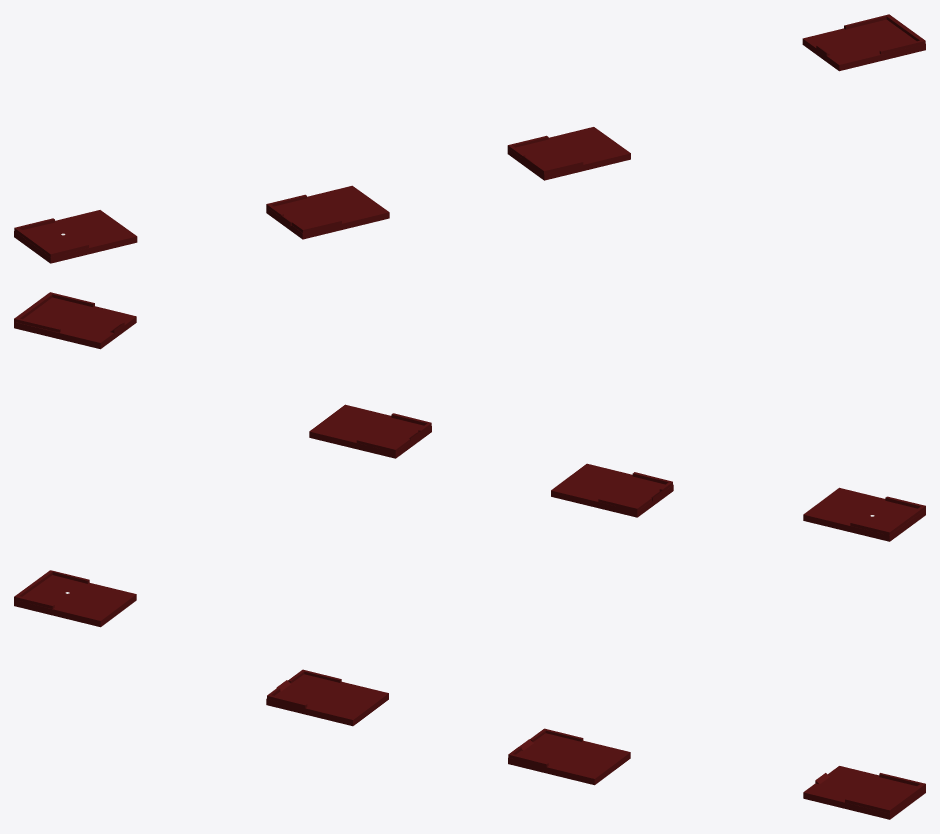
Rendered from Map#5.fbx.
The picture shows the model from 3 angles, top to bottom: view 1: azimuth 30°, elevation 25°; view 2: azimuth 150°, elevation 25°; view 3: azimuth 330°, elevation 25°; orthographic projection.
Visible parts, largest first — view 1: Mid_Point_1, Mid_Point_2, Ending_Pad, Starting_Pad, Starting_Point_Wall, End_Point_Wall; view 2: Mid_Point_1, Mid_Point_2, Ending_Pad, Starting_Pad, Starting_Point_Wall, End_Point_Wall; view 3: Ending_Pad, Mid_Point_2, Mid_Point_1, Starting_Pad, Starting_Point_Wall, End_Point_Wall.
Boxes of the visible parts, bbox=[...] form: Mid_Point_1: bbox=[507, 127, 630, 180]; Mid_Point_2: bbox=[266, 185, 389, 239]; Ending_Pad: bbox=[14, 210, 137, 263]; Starting_Pad: bbox=[802, 19, 925, 71]; Starting_Point_Wall: bbox=[844, 14, 925, 54]; End_Point_Wall: bbox=[14, 218, 88, 257]; Mid_Point_1: bbox=[309, 404, 431, 458]; Mid_Point_2: bbox=[551, 463, 673, 517]; Ending_Pad: bbox=[803, 487, 925, 541]; Starting_Pad: bbox=[14, 297, 136, 349]; Starting_Point_Wall: bbox=[14, 292, 94, 332]; End_Point_Wall: bbox=[850, 496, 925, 535]; Ending_Pad: bbox=[14, 575, 136, 627]; Mid_Point_2: bbox=[266, 674, 388, 726]; Mid_Point_1: bbox=[508, 733, 630, 785]; Starting_Pad: bbox=[803, 766, 925, 819]; Starting_Point_Wall: bbox=[845, 773, 925, 813]; End_Point_Wall: bbox=[14, 570, 89, 608].
Bounding box in the file's own units: 7345 × 375 × 532.
